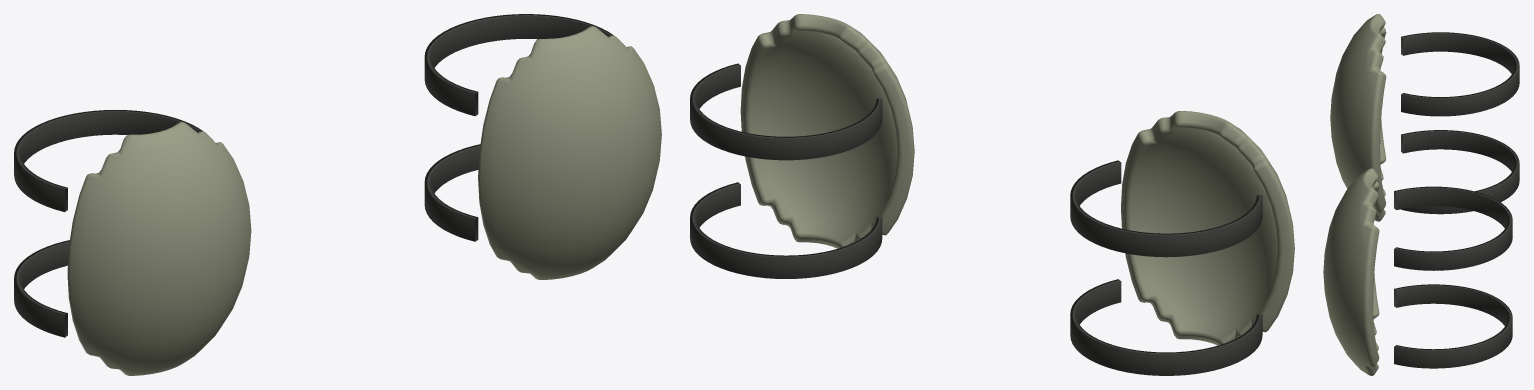
Rendered from kneepads_T.glb.
3 renders of one model, left to right at view 1: azimuth 30°, elevation 25°; view 2: azimuth 150°, elevation 25°; view 3: azimuth 270°, elevation 25°, orthographic. The views are drawn at different scales.
Visible parts, largest first — view 1: pad@Leg.L, pad@Leg.R; view 2: pad@Leg.R, pad@Leg.L; view 3: pad@Leg.L, pad@Leg.R.
Part boxes in pixels (<box>): pad@Leg.L: <box>424,14,661,279</box>; pad@Leg.R: <box>14,110,251,375</box>; pad@Leg.R: <box>1070,111,1294,375</box>; pad@Leg.L: <box>690,14,914,278</box>; pad@Leg.L: <box>1323,168,1512,375</box>; pad@Leg.R: <box>1330,14,1519,221</box>.
Size of the model in its own units: 0.442 by 0.1727 by 0.1637.
